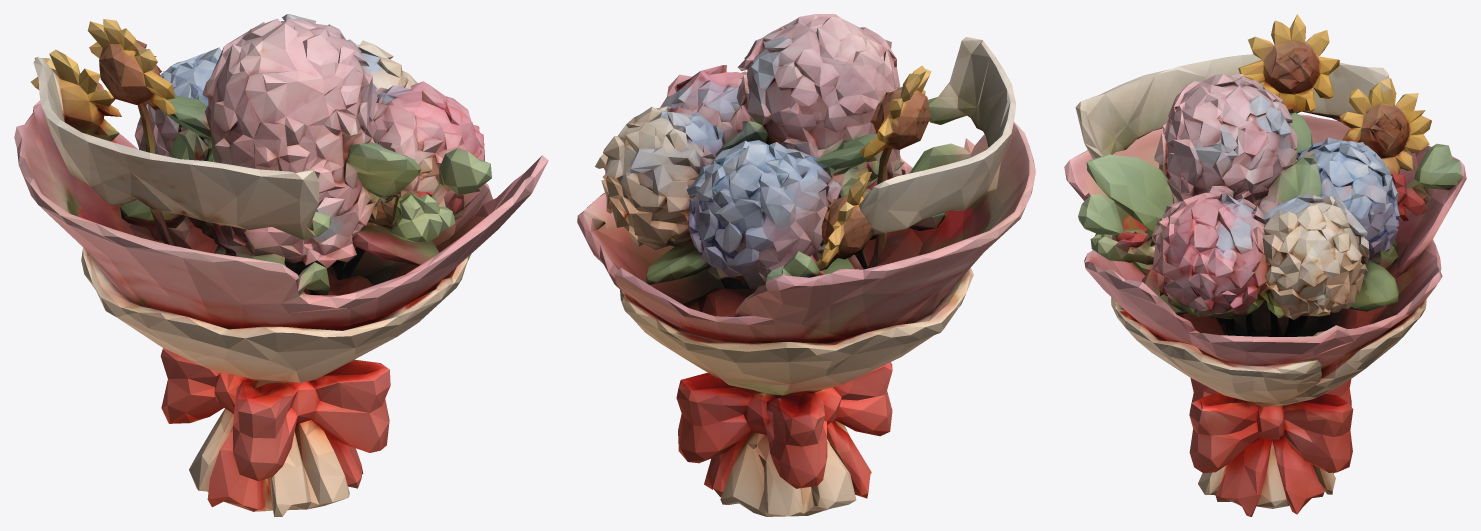
File: bouquet.glb
3 renders of one model, left to right at view 1: azimuth 30°, elevation 25°; view 2: azimuth 150°, elevation 25°; view 3: azimuth 270°, elevation 25°, orthographic. The views are drawn at different scales.
Visible parts, largest first — view 1: tripo_node_c6e7887f-fbbf-4bb6-a040-c2e9194b1dbf; view 2: tripo_node_c6e7887f-fbbf-4bb6-a040-c2e9194b1dbf; view 3: tripo_node_c6e7887f-fbbf-4bb6-a040-c2e9194b1dbf.
Boxes of the visible parts, x1=… form: tripo_node_c6e7887f-fbbf-4bb6-a040-c2e9194b1dbf: x1=14, y1=14, x2=548, y2=516; tripo_node_c6e7887f-fbbf-4bb6-a040-c2e9194b1dbf: x1=577, y1=14, x2=1035, y2=516; tripo_node_c6e7887f-fbbf-4bb6-a040-c2e9194b1dbf: x1=1064, y1=14, x2=1466, y2=516.
Size of the model in its own units: 0.9055 by 1 by 0.8853.
Materials: 1 (1 with a texture image).
